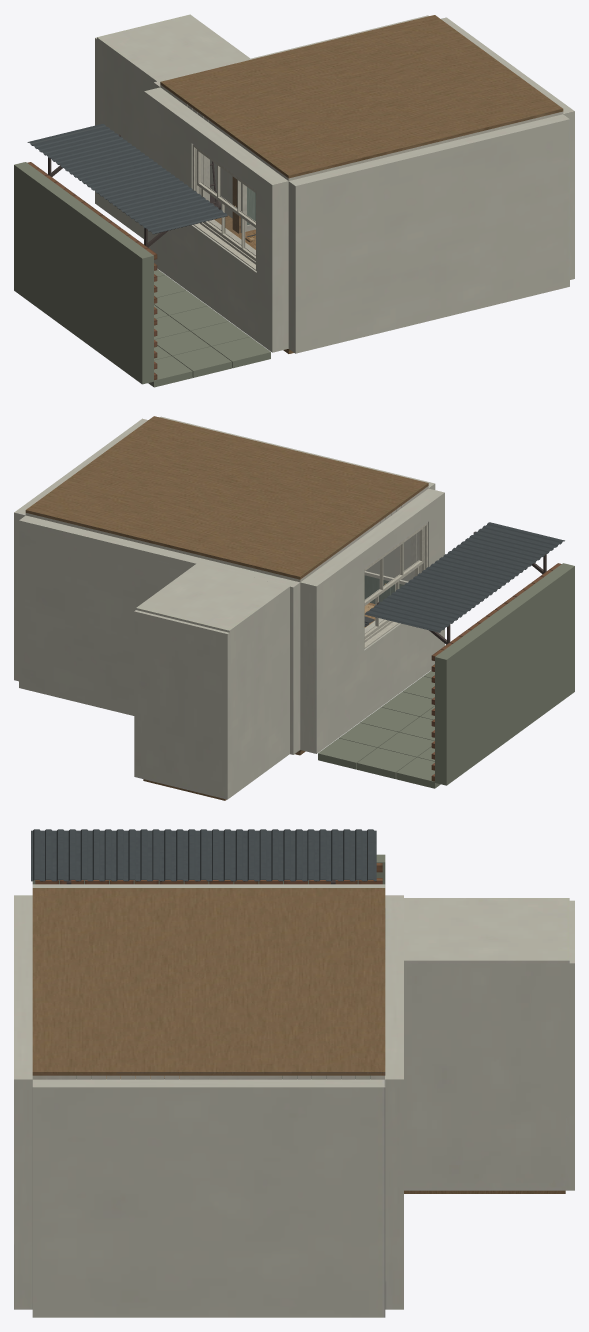
3 renders of one model, top to bottom at view 1: azimuth 30°, elevation 25°; view 2: azimuth 150°, elevation 25°; view 3: azimuth 270°, elevation 25°, orthographic. The views are drawn at different scales.
Parts seen in each view (by area): view 1: part/room_rear/plaster_wall, part/room_ceiling/roof_backing, part/room_window_court/court_wall_mortar, part/room_window_court/window_wall, part/room_door_store/store_plaster, part/room_window_court/loading_canopy, part/room_window_court/court_paving, part/room_right/plaster_wall, part/room_window_court/painted_deep_reveal, part/room_ceiling/ceiling_boards, part/room_window_court/court_brick_faces, part/room_window_court/upper_sash (+2 smaller); view 2: part/room_ceiling/roof_backing, part/room_door_store/store_plaster, part/room_door_store/doorway_wall, part/room_window_court/window_wall, part/room_window_court/court_wall_mortar, part/room_window_court/loading_canopy, part/room_window_court/court_paving, part/room_right/plaster_wall, part/room_rear/plaster_wall, part/room_ceiling/ceiling_boards, part/room_window_court/painted_deep_reveal, part/room_window_court/court_brick_faces (+2 smaller); view 3: part/room_right/plaster_wall, part/room_ceiling/roof_backing, part/room_door_store/store_plaster, part/room_window_court/loading_canopy, part/room_door_store/doorway_wall, part/room_rear/plaster_wall, part/room_ceiling/ceiling_boards, part/room_window_court/court_brick_faces, part/room_window_court/window_wall, part/room_door_store/store_floor.
Boxes of the visible parts, left/top/right/bottom form: part/room_rear/plaster_wall: left=288, top=114, right=569, bottom=353; part/room_ceiling/roof_backing: left=160, top=15, right=563, bottom=178; part/room_window_court/court_wall_mortar: left=14, top=162, right=153, bottom=384; part/room_window_court/window_wall: left=144, top=87, right=288, bottom=352; part/room_door_store/store_plaster: left=95, top=14, right=249, bottom=238; part/room_window_court/loading_canopy: left=27, top=124, right=227, bottom=234; part/room_window_court/court_paving: left=148, top=269, right=270, bottom=387; part/room_right/plaster_wall: left=441, top=17, right=574, bottom=279; part/room_window_court/painted_deep_reveal: left=192, top=144, right=256, bottom=270; part/room_ceiling/ceiling_boards: left=160, top=85, right=563, bottom=180; part/room_window_court/court_brick_faces: left=27, top=162, right=157, bottom=380; part/room_window_court/upper_sash: left=197, top=149, right=255, bottom=227; part/room_ceiling/roof_backing: left=25, top=416, right=428, bottom=579; part/room_door_store/store_plaster: left=134, top=564, right=289, bottom=799; part/room_door_store/doorway_wall: left=19, top=515, right=300, bottom=754; part/room_window_court/window_wall: left=300, top=488, right=444, bottom=753; part/room_window_court/court_wall_mortar: left=435, top=563, right=574, bottom=785; part/room_window_court/loading_canopy: left=365, top=522, right=564, bottom=632; part/room_window_court/court_paving: left=318, top=670, right=440, bottom=788; part/room_right/plaster_wall: left=14, top=418, right=147, bottom=681; part/room_rear/plaster_wall: left=160, top=416, right=435, bottom=581; part/room_ceiling/ceiling_boards: left=25, top=486, right=428, bottom=582; part/room_window_court/painted_deep_reveal: left=364, top=522, right=427, bottom=648; part/room_window_court/court_brick_faces: left=431, top=563, right=561, bottom=781; part/room_right/plaster_wall: left=32, top=1079, right=385, bottom=1317; part/room_ceiling/roof_backing: left=32, top=888, right=385, bottom=1075; part/room_door_store/store_plaster: left=404, top=898, right=574, bottom=1190; part/room_window_court/loading_canopy: left=31, top=829, right=376, bottom=881; part/room_door_store/doorway_wall: left=385, top=895, right=403, bottom=1309; part/room_rear/plaster_wall: left=14, top=895, right=32, bottom=1309; part/room_ceiling/ceiling_boards: left=32, top=1075, right=384, bottom=1079; part/room_window_court/court_brick_faces: left=35, top=863, right=382, bottom=884; part/room_window_court/window_wall: left=32, top=884, right=385, bottom=887; part/room_door_store/store_floor: left=404, top=1190, right=565, bottom=1193.
Size of the model in its own units: 6.62 by 2.63 by 5.41.
167 materials, 161 textured.
